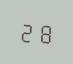eight: (36, 20, 52, 44)
two: (19, 19, 35, 43)
